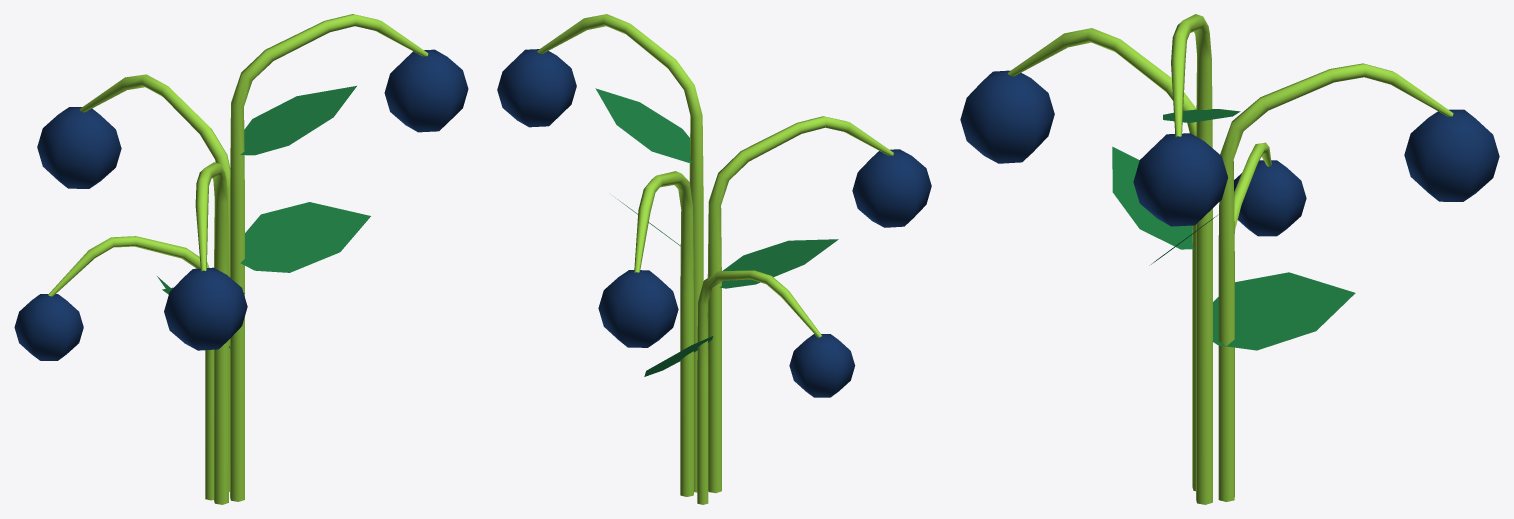
File: MM_Plant_A.fbx
The picture shows the model from 3 angles, left to right: view 1: azimuth 30°, elevation 25°; view 2: azimuth 150°, elevation 25°; view 3: azimuth 270°, elevation 25°; orthographic projection. The views are drawn at different scales.
Visible parts, largest first — view 1: Plane.030, Plane.036, Plane.005; view 2: Plane.030, Plane.005, Plane.035, Plane.037; view 3: Plane.030, Plane.037, Plane.035, Plane.005.
Part boxes in pixels (<box>): Plane.030: <box>14,14,468,504</box>; Plane.036: <box>240,202,370,272</box>; Plane.005: <box>240,86,356,155</box>; Plane.030: <box>497,14,931,504</box>; Plane.005: <box>595,88,692,162</box>; Plane.035: <box>720,239,838,288</box>; Plane.037: <box>644,336,713,376</box>; Plane.030: <box>960,14,1499,504</box>; Plane.037: <box>1212,272,1355,350</box>; Plane.035: <box>1112,146,1194,249</box>; Plane.005: <box>1163,109,1240,122</box>.
Size of the model in its own units: 48.61 by 54.62 by 50.46.
